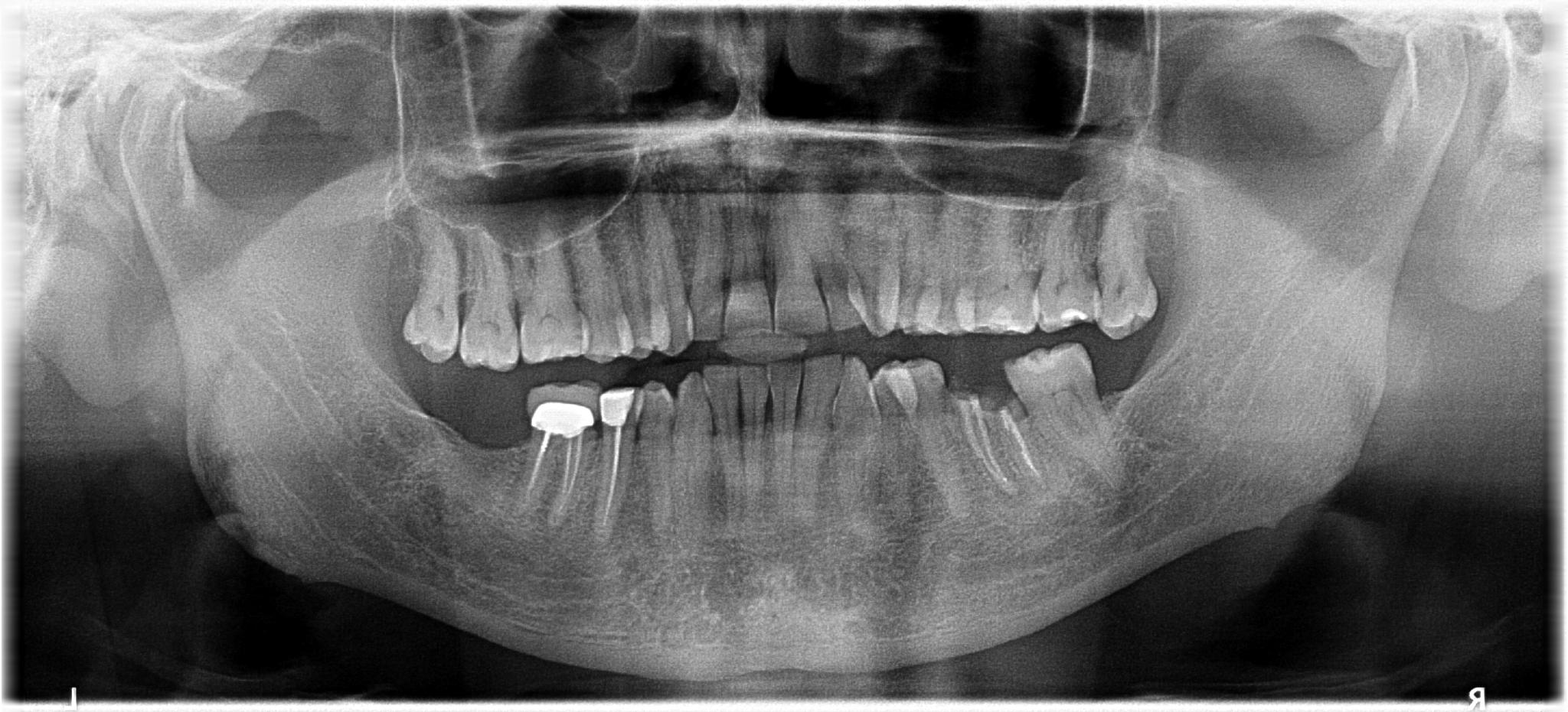Premolars: (556, 202, 1568, 549), (555, 171, 1568, 451), (341, 182, 1013, 494), (299, 188, 888, 507)
